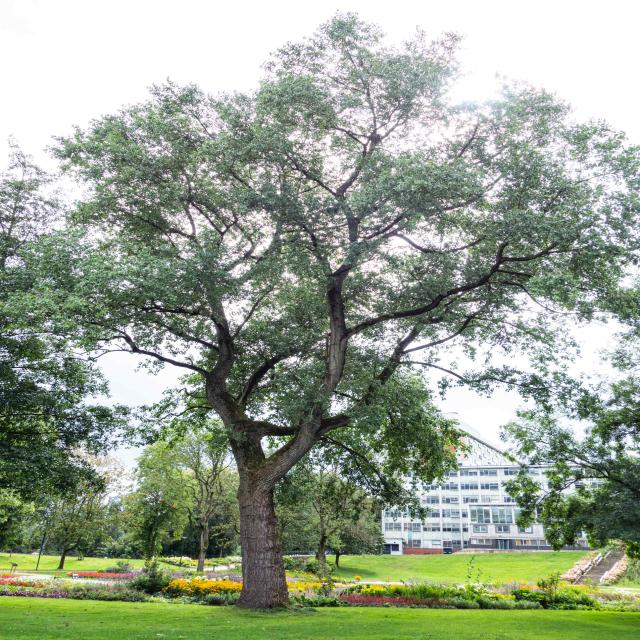Populus nigra: (20, 12, 640, 612)
